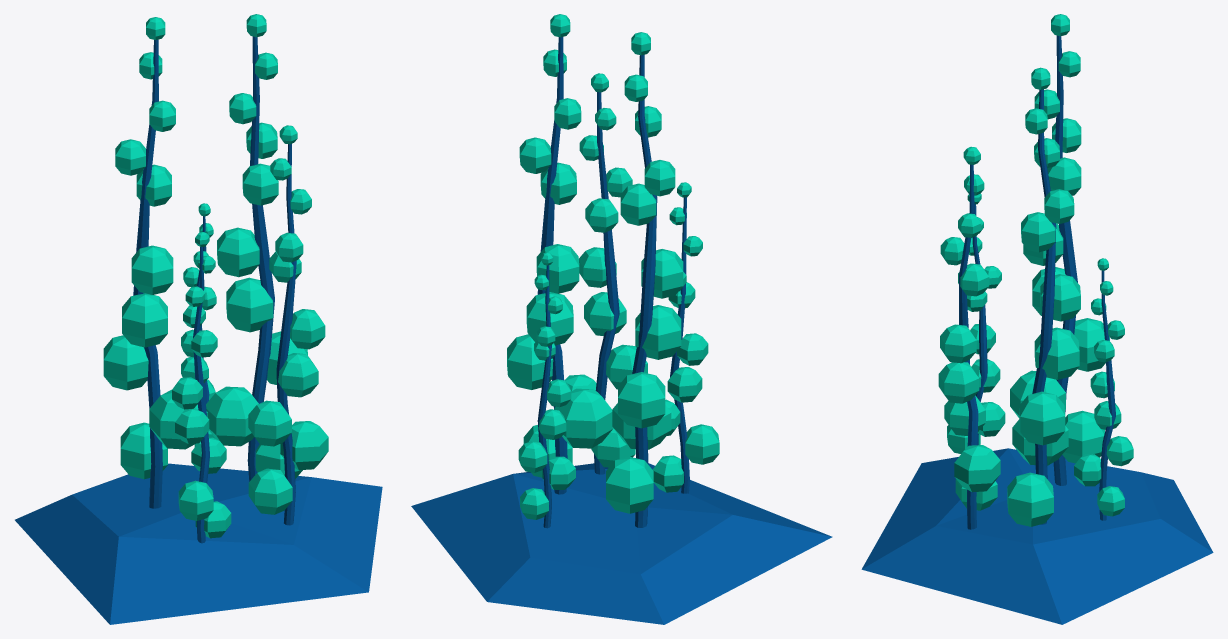
The model's file is Ball_Fungus.fbx.
3 views of the same model, side by side, from view 1: azimuth 30°, elevation 25°; view 2: azimuth 150°, elevation 25°; view 3: azimuth 270°, elevation 25° (orthographic). The views are drawn at different scales.
Parts seen in each view (by area): view 1: stem, glow; view 2: stem, glow; view 3: stem, glow.
Boxes of the visible parts, x1,y1,x2,y2 form: stem: [15, 36, 382, 624]; glow: [103, 14, 328, 538]; stem: [411, 37, 832, 624]; glow: [507, 14, 719, 519]; stem: [861, 35, 1213, 624]; glow: [938, 14, 1133, 526].
Bounding box in the file's own units: 28.56 × 41.44 × 26.26.
